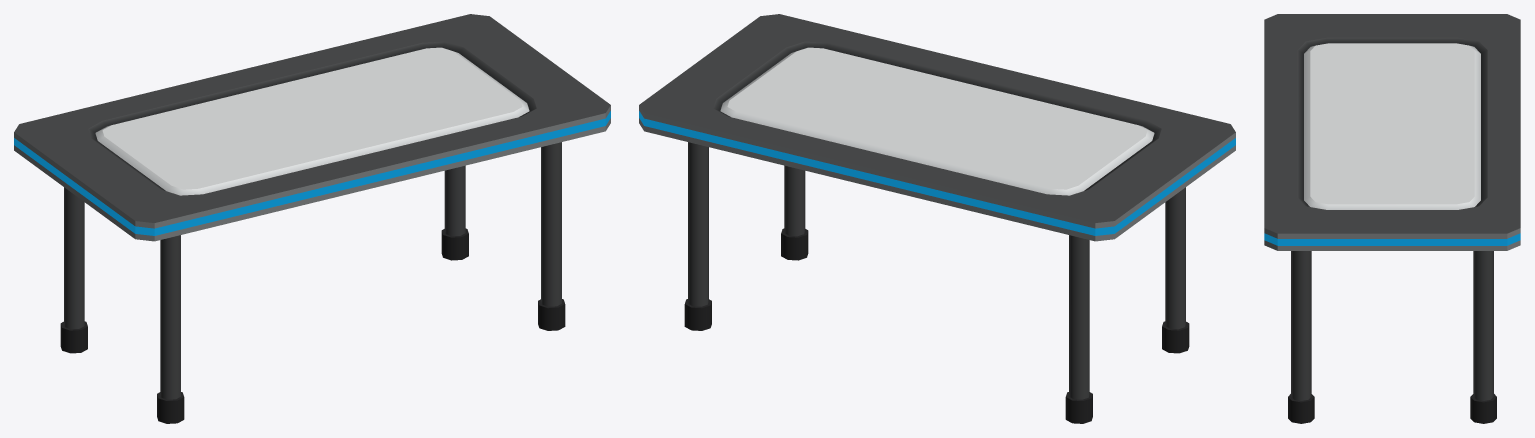
File: Desk_034.glb
3 renders of one model, left to right at view 1: azimuth 30°, elevation 25°; view 2: azimuth 150°, elevation 25°; view 3: azimuth 270°, elevation 25°, orthographic. The views are drawn at different scales.
Parts seen in each view (by area): view 1: Desk_034; view 2: Desk_034; view 3: Desk_034.
Part boxes in pixels (x1=…): Desk_034: x1=14, y1=14, x2=610, y2=423; Desk_034: x1=639, y1=14, x2=1235, y2=423; Desk_034: x1=1264, y1=14, x2=1520, y2=423.
Size of the model in its own units: 2 by 0.8747 by 0.9845.
Materials: 2 (2 with a texture image).
